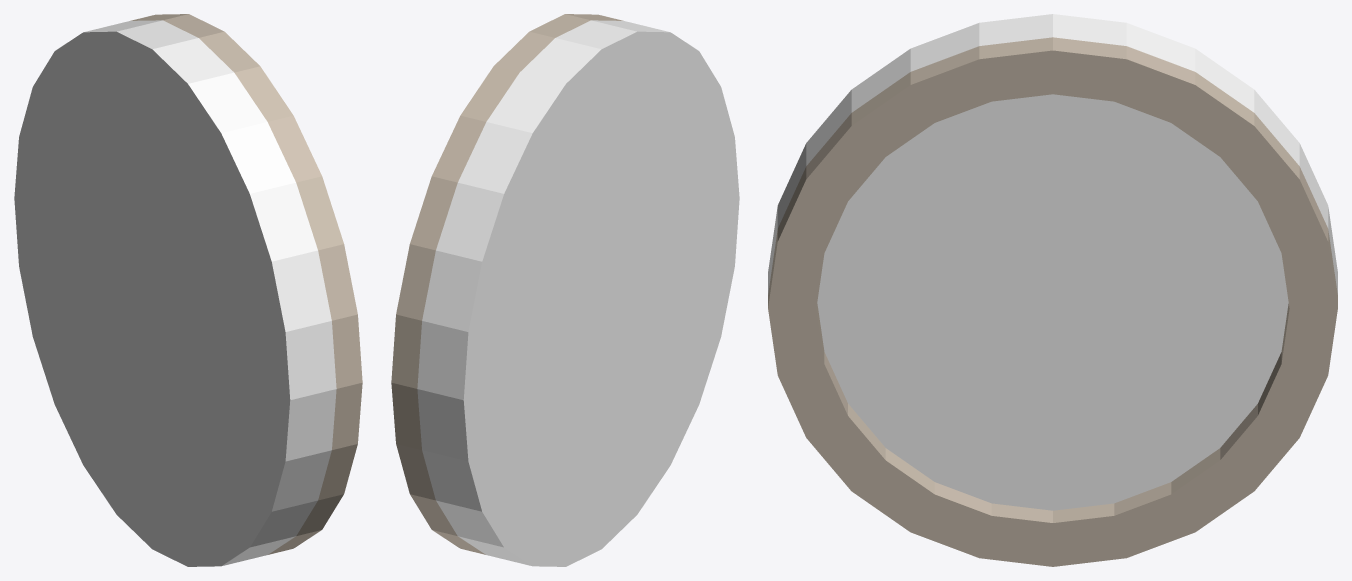
The model's file is CASIO-330-ANALOG-CLOCK-BODYSET2_link_mesh.dae.
The picture shows the model from 3 angles, left to right: view 1: azimuth 30°, elevation 25°; view 2: azimuth 150°, elevation 25°; view 3: azimuth 270°, elevation 25°; orthographic projection. The views are drawn at different scales.
Visible parts, largest first — view 1: CASIO-330-ANALOG-CLOCK-BODYSET2_link (×2); view 2: CASIO-330-ANALOG-CLOCK-BODYSET2_link (×2); view 3: CASIO-330-ANALOG-CLOCK-BODYSET2_link (×3).
Boxes of the visible parts, x1=… form: CASIO-330-ANALOG-CLOCK-BODYSET2_link (×2): x1=14, y1=14, x2=362, y2=566; CASIO-330-ANALOG-CLOCK-BODYSET2_link (×2): x1=391, y1=14, x2=739, y2=566; CASIO-330-ANALOG-CLOCK-BODYSET2_link (×3): x1=768, y1=14, x2=1337, y2=566.
Size of the model in its own units: 0.05 by 0.33 by 0.33.
